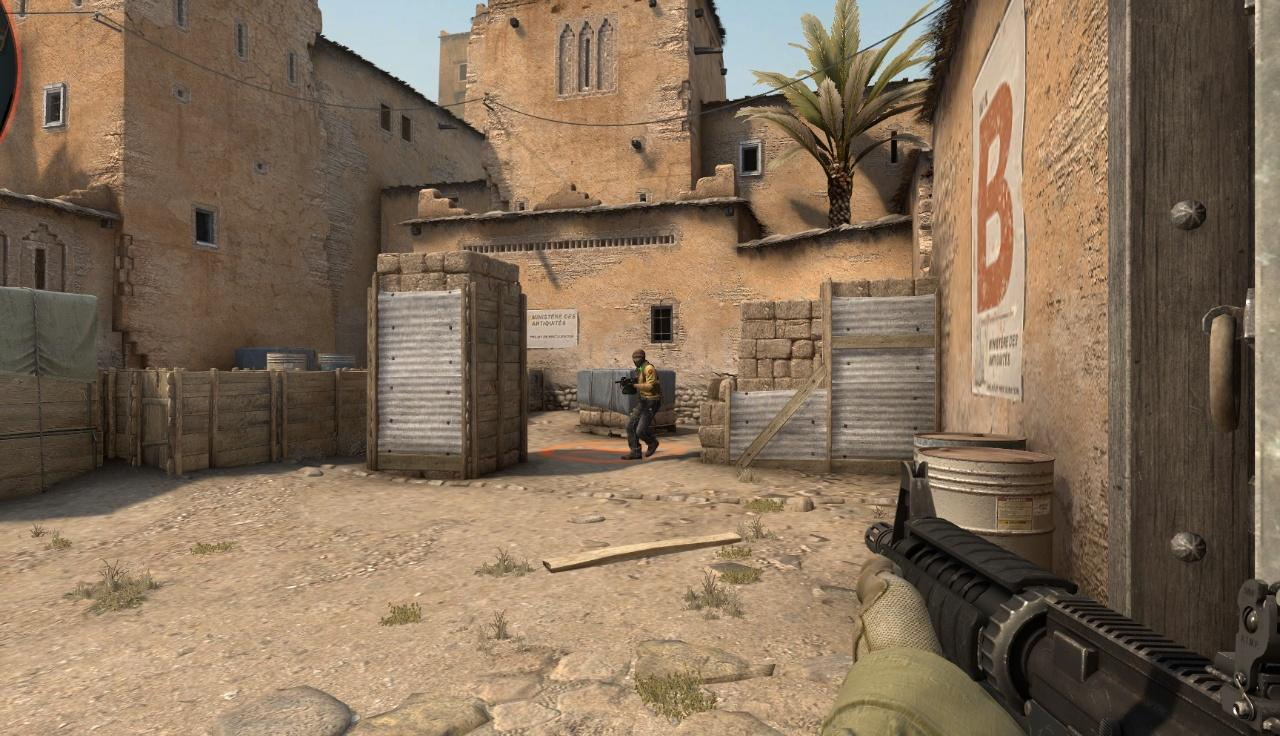rifle: (818, 461, 1280, 736)
tt: (622, 349, 664, 461)
tthead: (632, 349, 645, 366)
